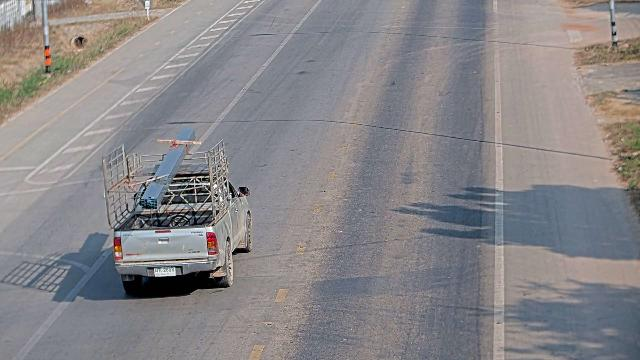pickup-truck: (101, 127, 253, 294)
